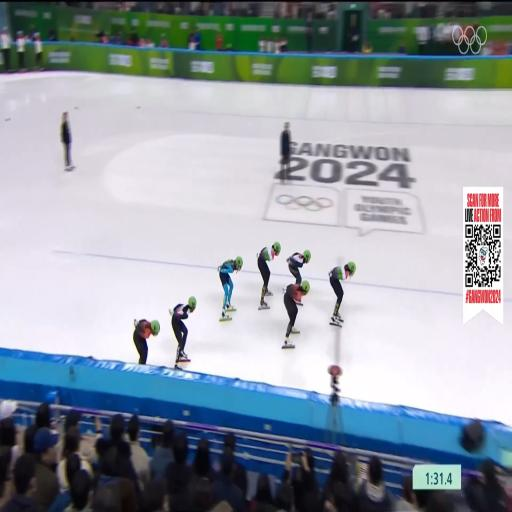Skater: (170, 297, 196, 368), (282, 281, 309, 349), (329, 262, 355, 326), (218, 256, 242, 321), (258, 242, 281, 309), (134, 320, 159, 364), (287, 250, 310, 284)
